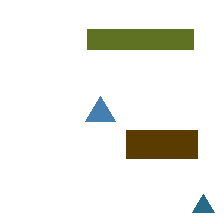rectangle: (87, 29, 193, 49), (126, 130, 197, 158)
triangle: (85, 96, 115, 121), (192, 194, 214, 212)
